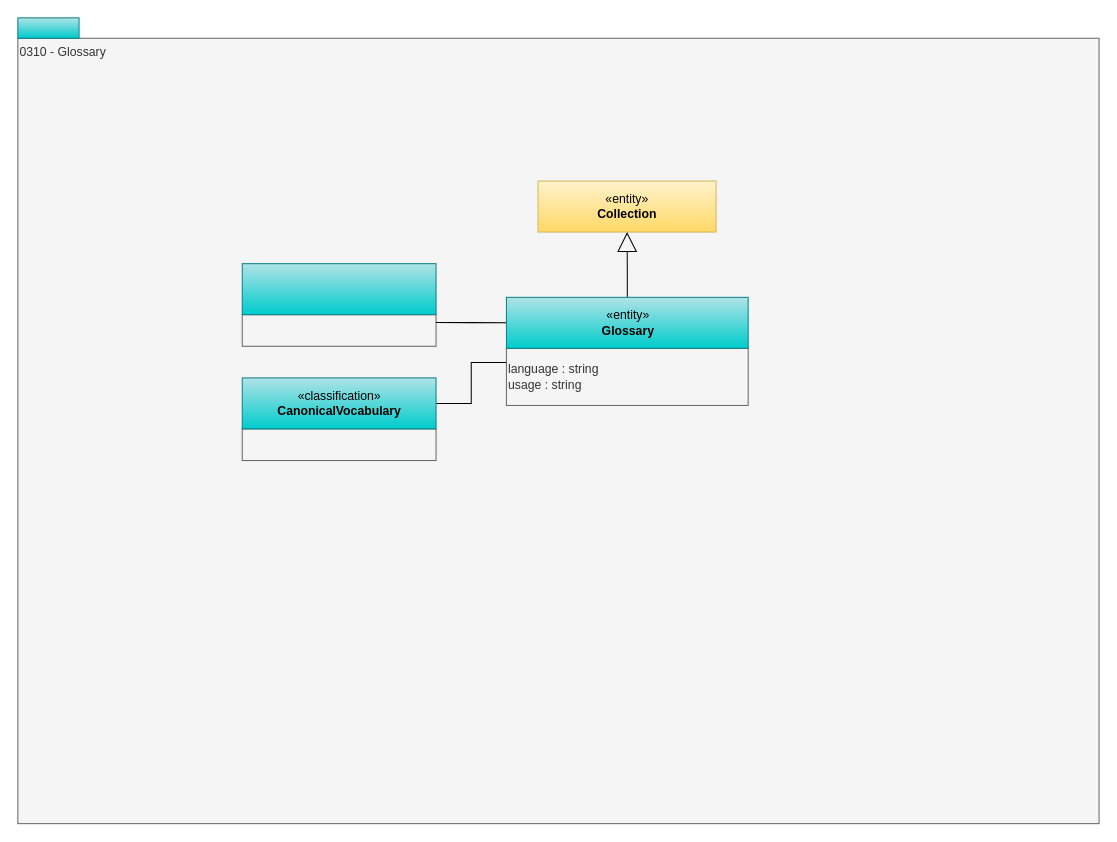
Image size: 1117x842. Some labels were removed from this diagram. Here are the shapes that lost their labels. From the top down, the centre of each, then its label:
point (338, 289): «classification» Taxonomy
point (338, 330): organizingPrinciple : string
point (338, 444): scope : string
